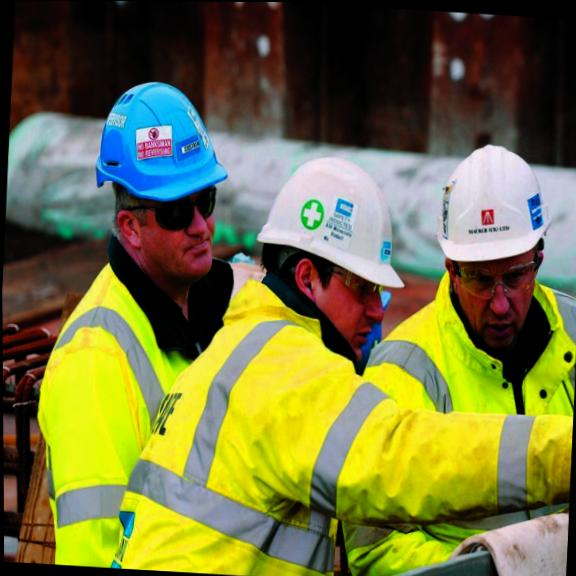safety_vest: (372, 290, 576, 576), (41, 250, 214, 573), (177, 281, 362, 576)
